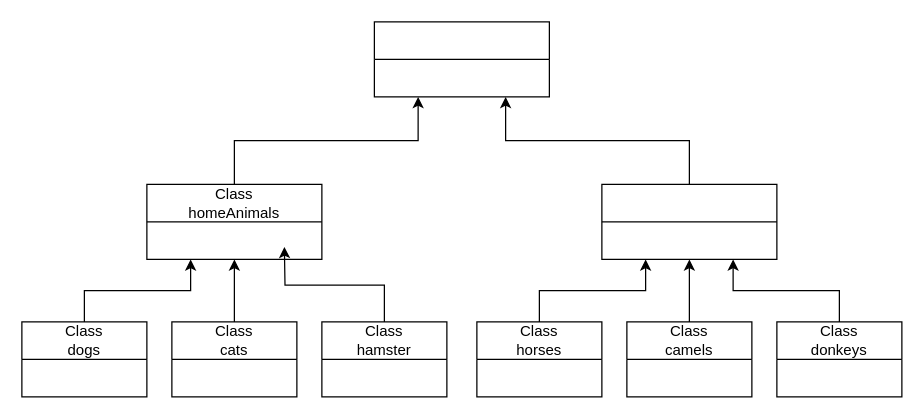
Some shapes in this 924 by 419 pixel diagram are drawn without their labels. Each missing label, with the centre of its shape:
Class Animals: (461,59)
Class packAnimals: (689,221)
